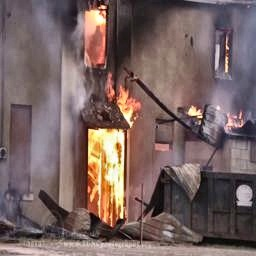fire: (87, 128, 128, 217), (91, 66, 137, 121), (81, 10, 108, 64)
